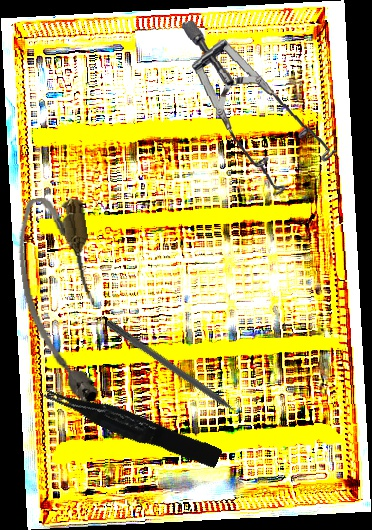Cannula: (11, 192, 111, 409)
Pusher: (103, 318, 257, 430)
Speculum: (179, 9, 343, 202)
Tissue Forceps: (41, 374, 223, 476)
